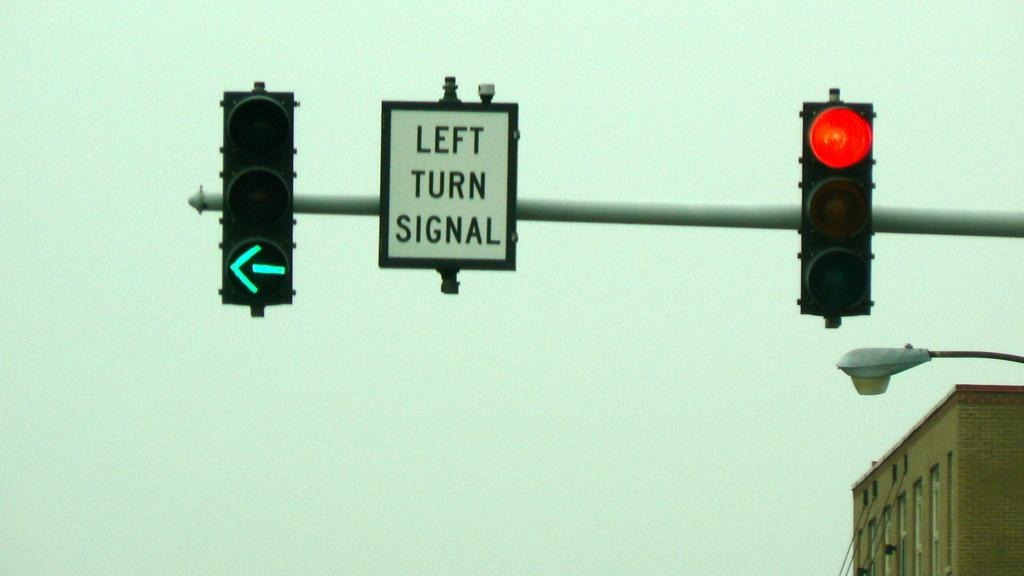green_light: (221, 90, 295, 306)
red_light: (800, 102, 873, 313)
